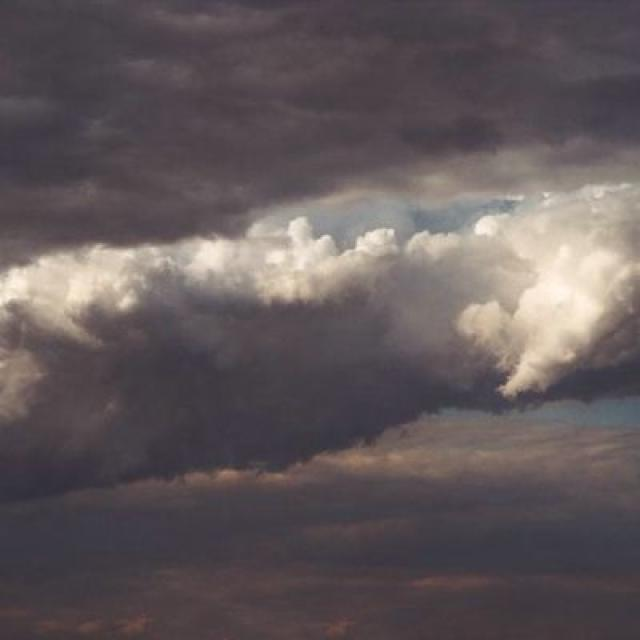Sc: (1, 172, 640, 527)
